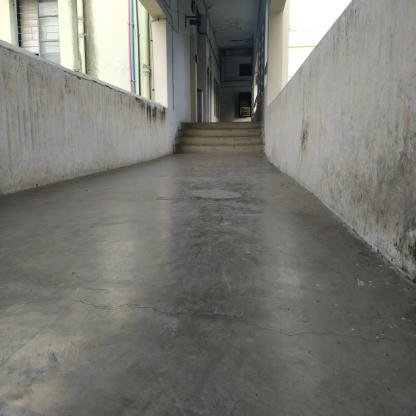stairs: (190, 122, 261, 155)
